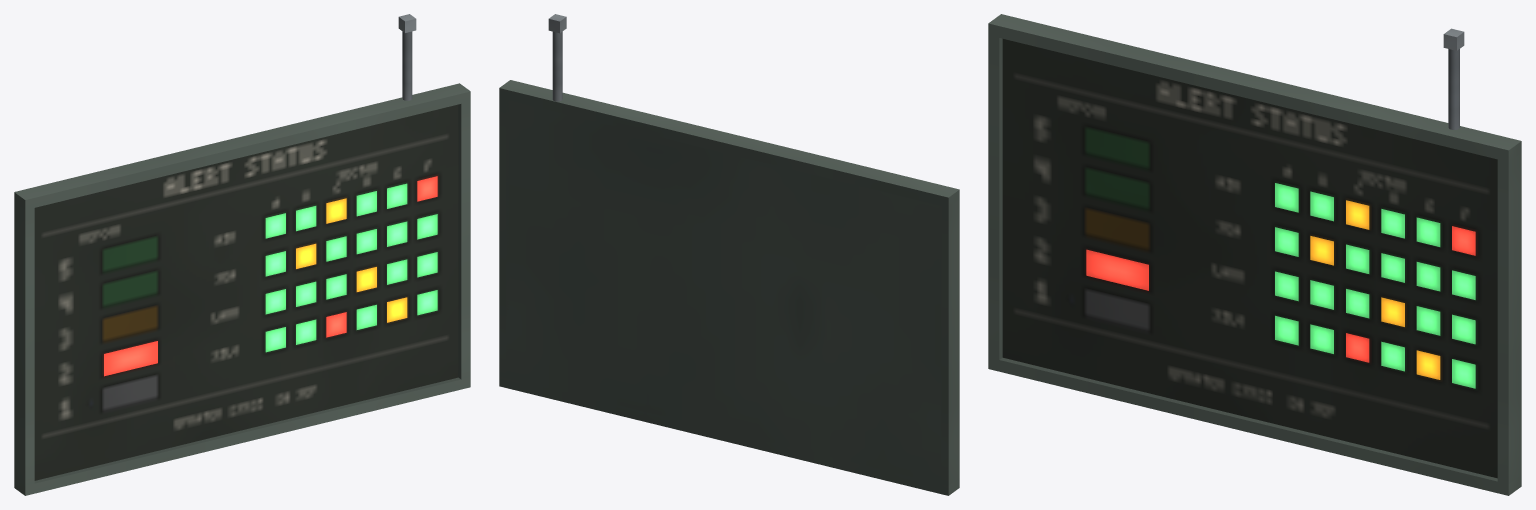
The model's file is status_board.glb.
The picture shows the model from 3 angles, left to right: view 1: azimuth 30°, elevation 25°; view 2: azimuth 150°, elevation 25°; view 3: azimuth 330°, elevation 25°; orthographic projection. The views are drawn at different scales.
Parts seen in each view (by area): view 1: status_board, status_board_lamp; view 2: status_board; view 3: status_board, status_board_lamp.
Part boxes in pixels (left/top/right/bottom): status_board: left=14, top=14, right=470, bottom=495; status_board_lamp: left=104, top=176, right=437, bottom=376; status_board: left=499, top=14, right=959, bottom=495; status_board: left=988, top=14, right=1521, bottom=495; status_board_lamp: left=1086, top=183, right=1475, bottom=388.
Bounding box in the file's own units: 1.86 × 1.5 × 0.0834.
Materials: 1 (1 with a texture image).
